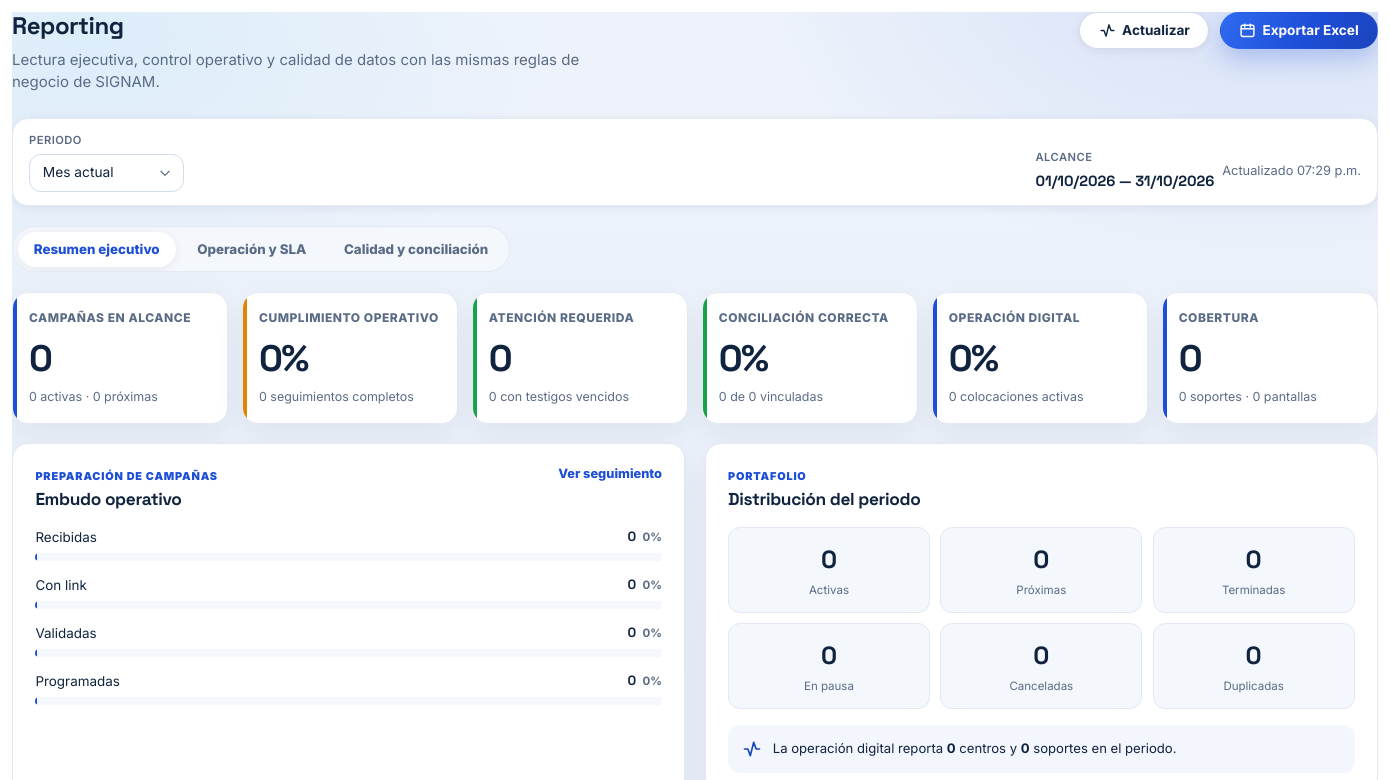
Scenario: ReportingPage › carga el resumen y permite navegar a calidad y conciliación
This screenshot has width=1390, height=780.
Check: the text "Campañas en alcance" is shown, box left=29, top=309, right=211, bottom=327
Check: the heading "Embudo operativo" is shown, box left=35, top=488, right=182, bottom=510
Click the button "Calidad y conciliación": (416, 249) left=328, top=232, right=504, bottom=266
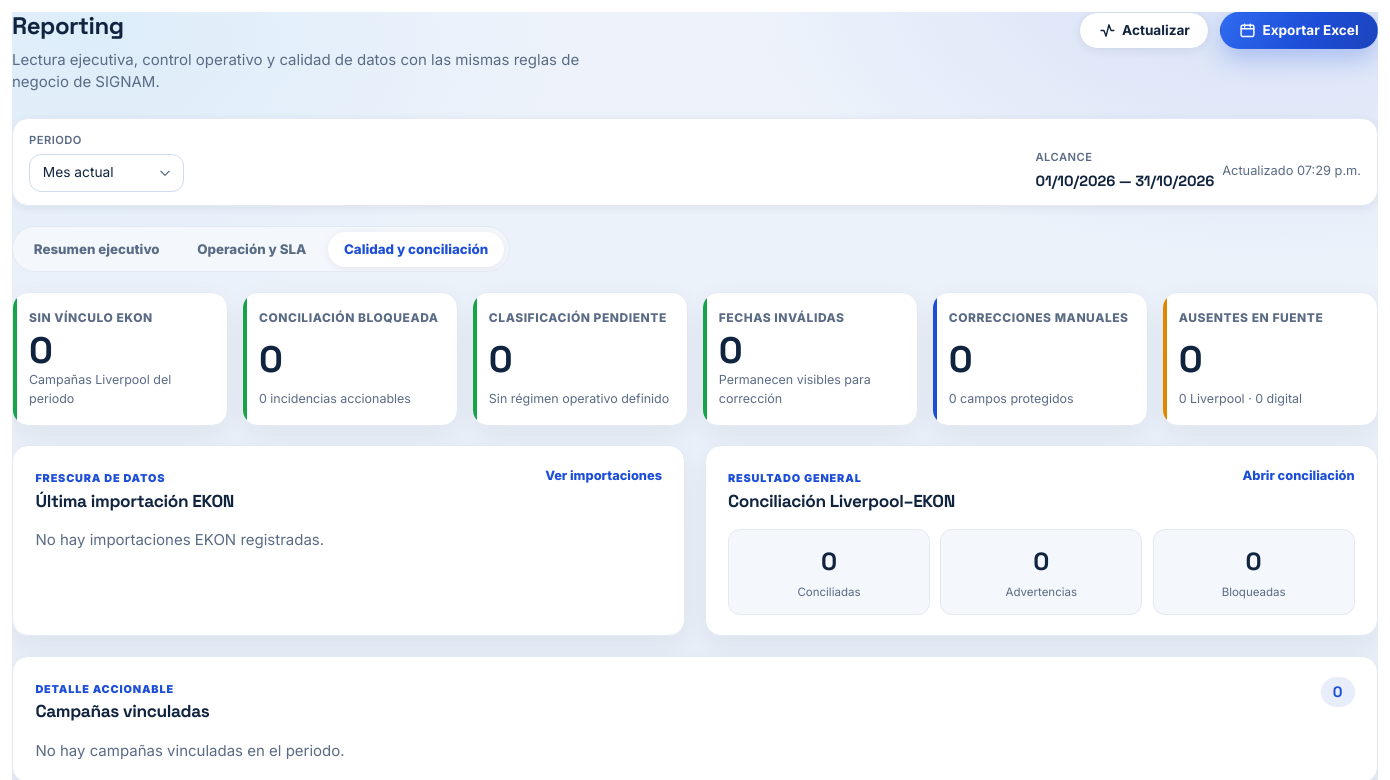
Check: the heading "Última importación EKON" is shown, box left=35, top=491, right=234, bottom=512
Check: the heading "Conciliación Liverpool–EKON" is shown, box left=728, top=491, right=955, bottom=512
